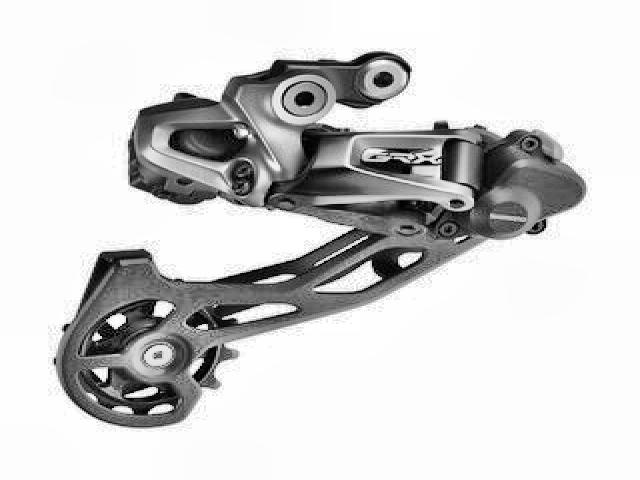rear_derailleur: (51, 48, 589, 425)
